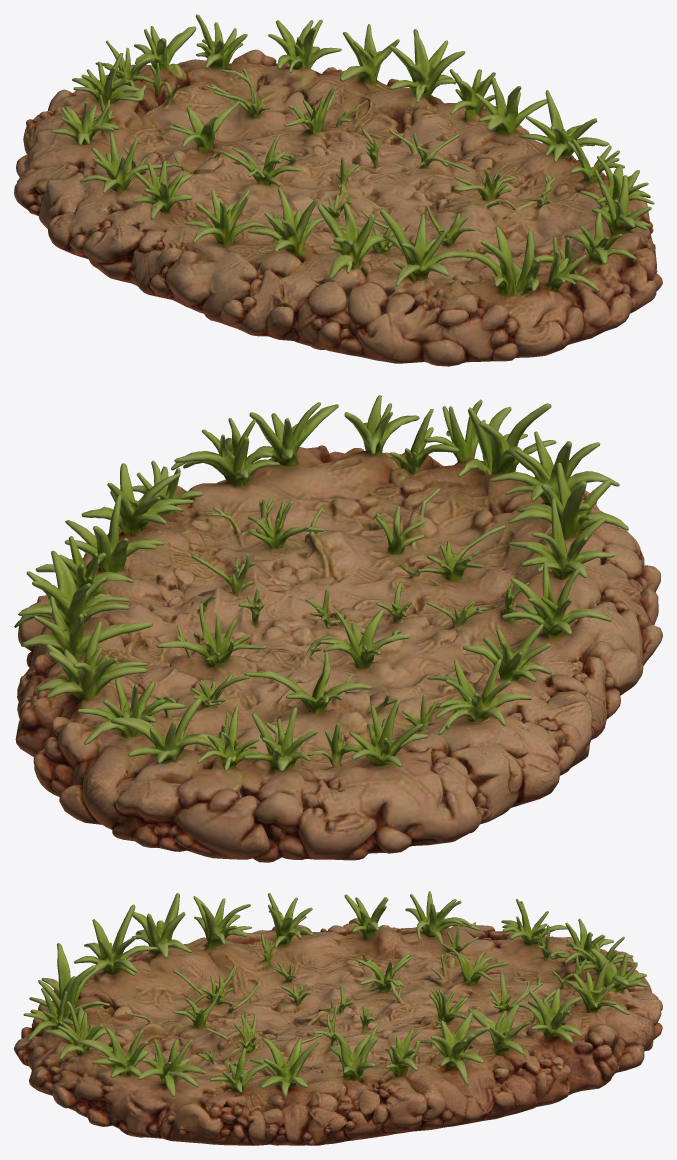
3 views of the same model, one above another, from view 1: azimuth 30°, elevation 25°; view 2: azimuth 150°, elevation 25°; view 3: azimuth 270°, elevation 25° (orthographic). The views are drawn at different scales.
Visible parts, largest first — view 1: tripo_node_891e7712-8430-4d33-9070-e0f2b73cdfd2; view 2: tripo_node_891e7712-8430-4d33-9070-e0f2b73cdfd2; view 3: tripo_node_891e7712-8430-4d33-9070-e0f2b73cdfd2.
Boxes of the visible parts, x1=… form: tripo_node_891e7712-8430-4d33-9070-e0f2b73cdfd2: x1=14, y1=14, x2=662, y2=366; tripo_node_891e7712-8430-4d33-9070-e0f2b73cdfd2: x1=14, y1=395, x2=662, y2=862; tripo_node_891e7712-8430-4d33-9070-e0f2b73cdfd2: x1=14, y1=891, x2=662, y2=1145.
Size of the model in its own units: 0.7393 by 0.1963 by 0.9997.
1 material, 1 textured.
